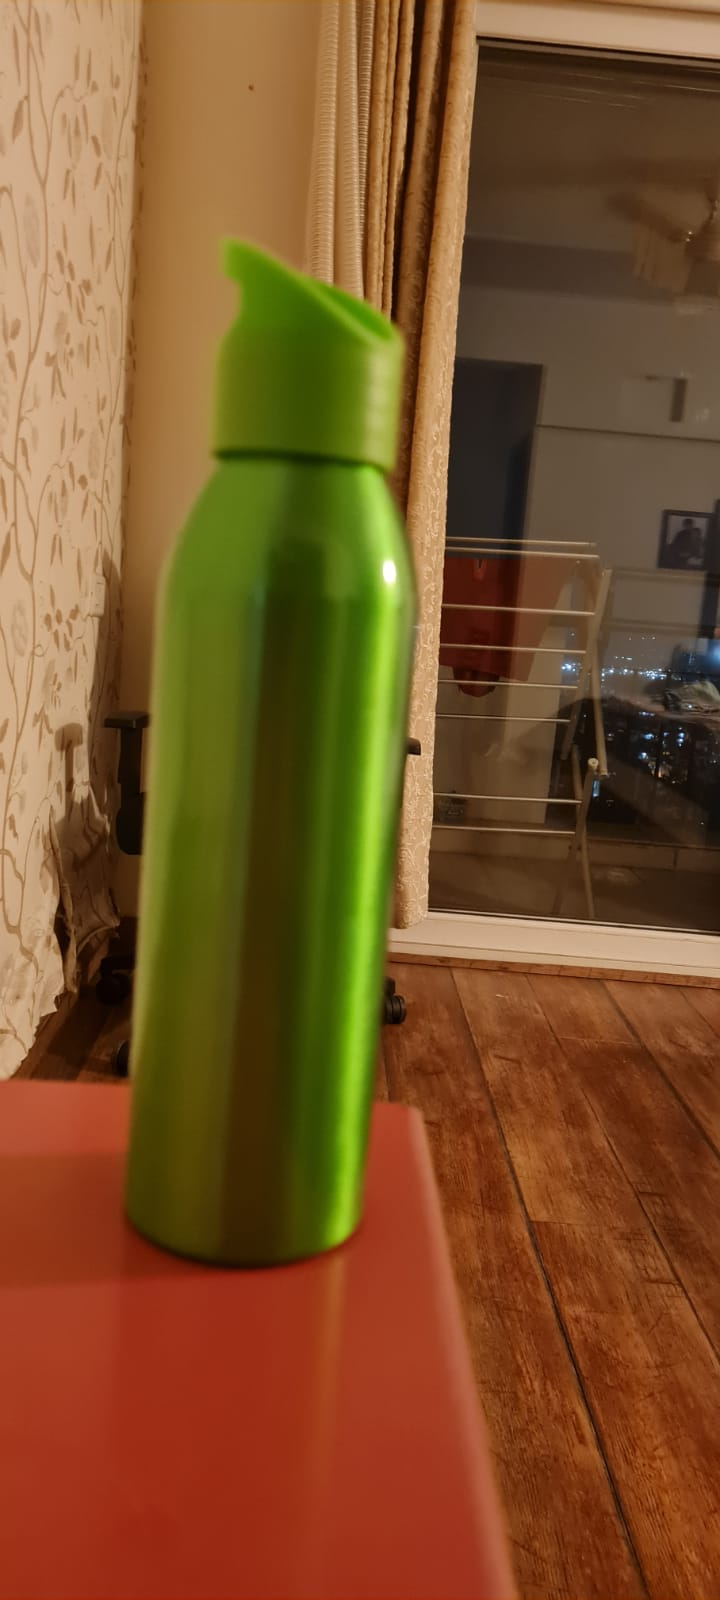bottle: (114, 230, 410, 1278)
